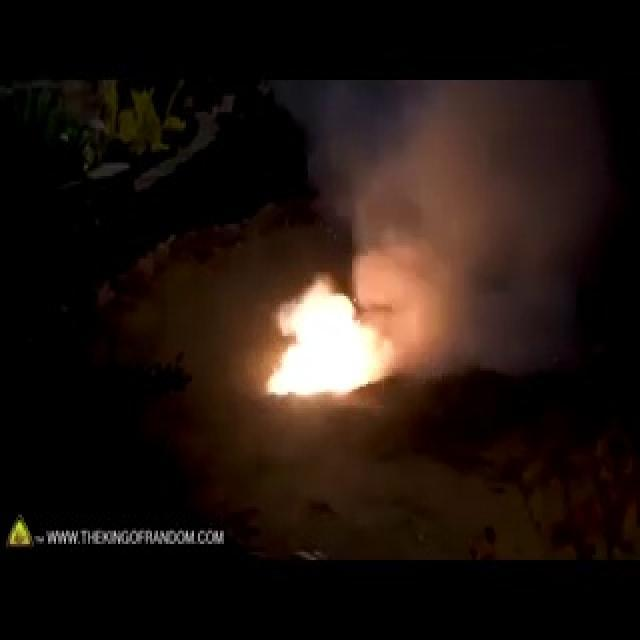fire: (253, 228, 407, 402)
